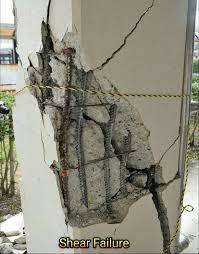exposed_rebar: (60, 48, 75, 166), (76, 68, 87, 206), (104, 105, 114, 203), (122, 130, 131, 189)
spalling: (25, 21, 167, 228)
